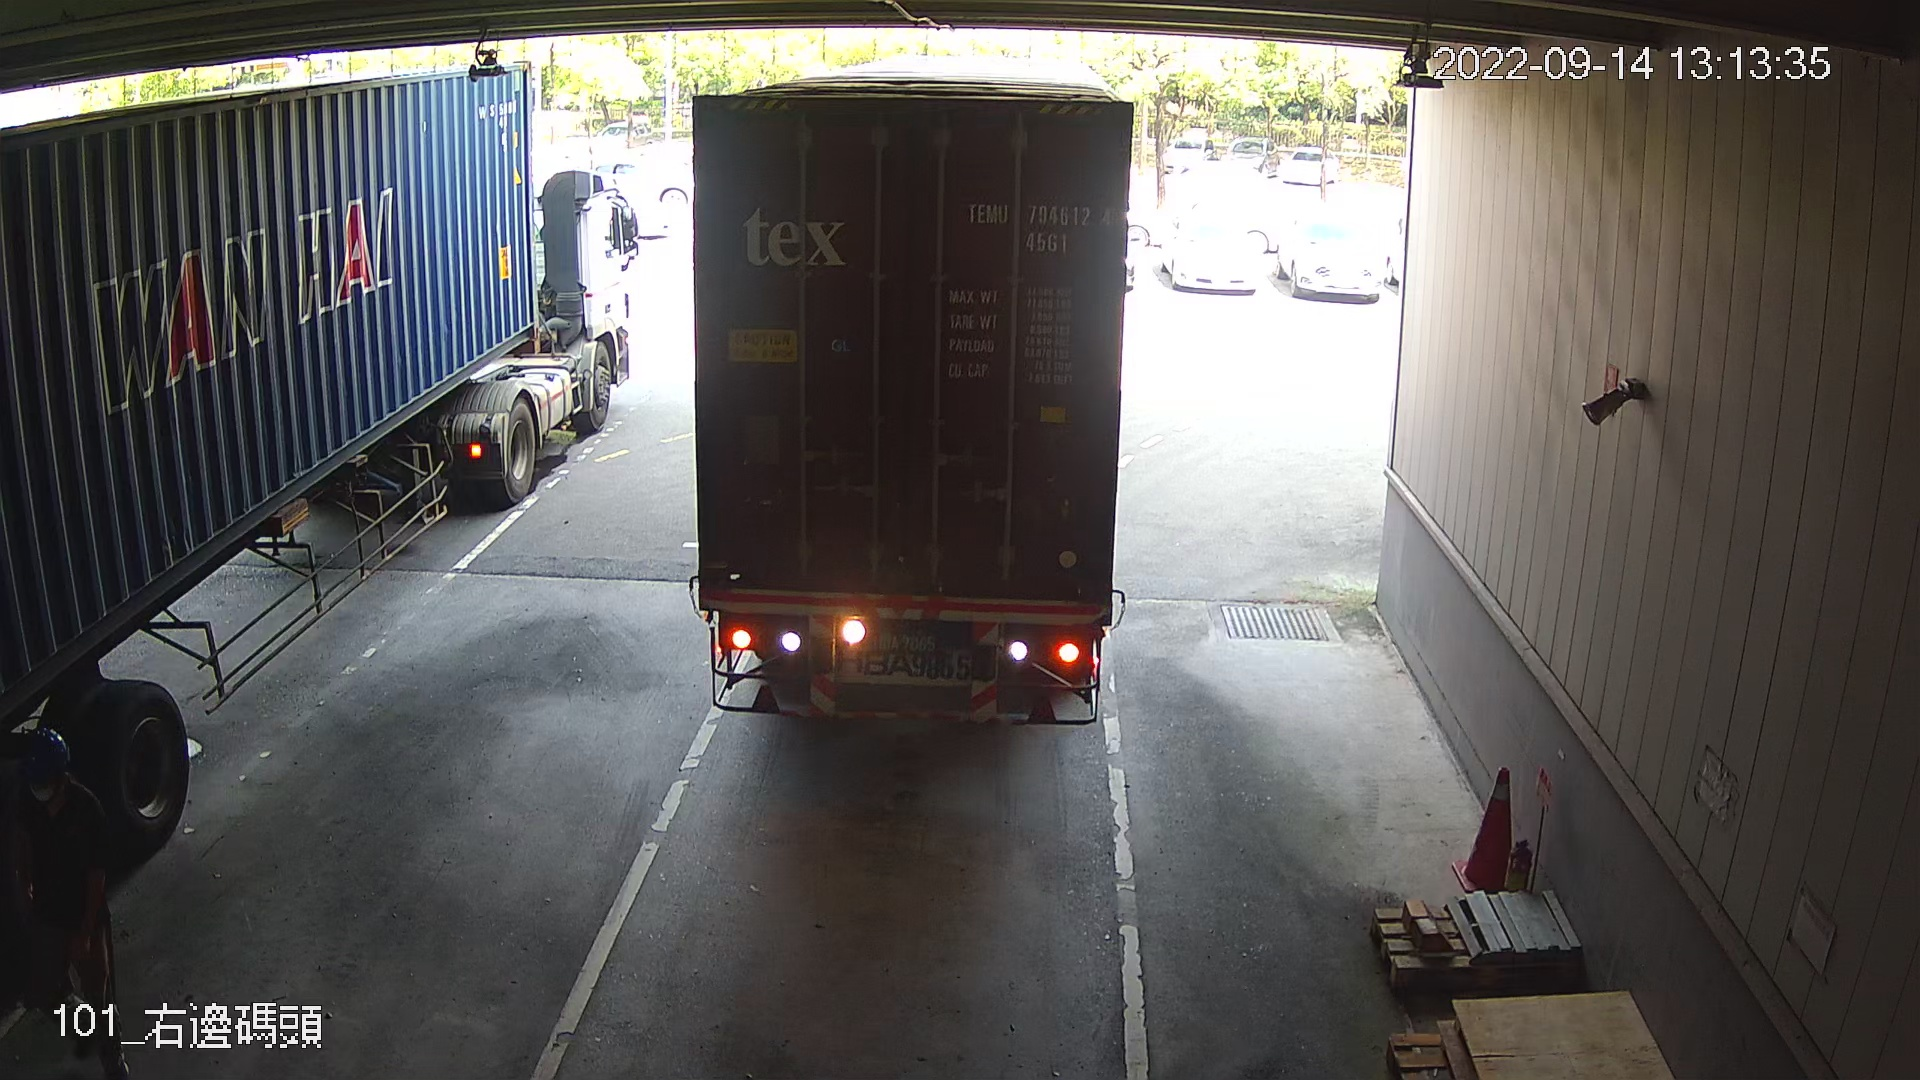container: (957, 193, 1124, 261)
